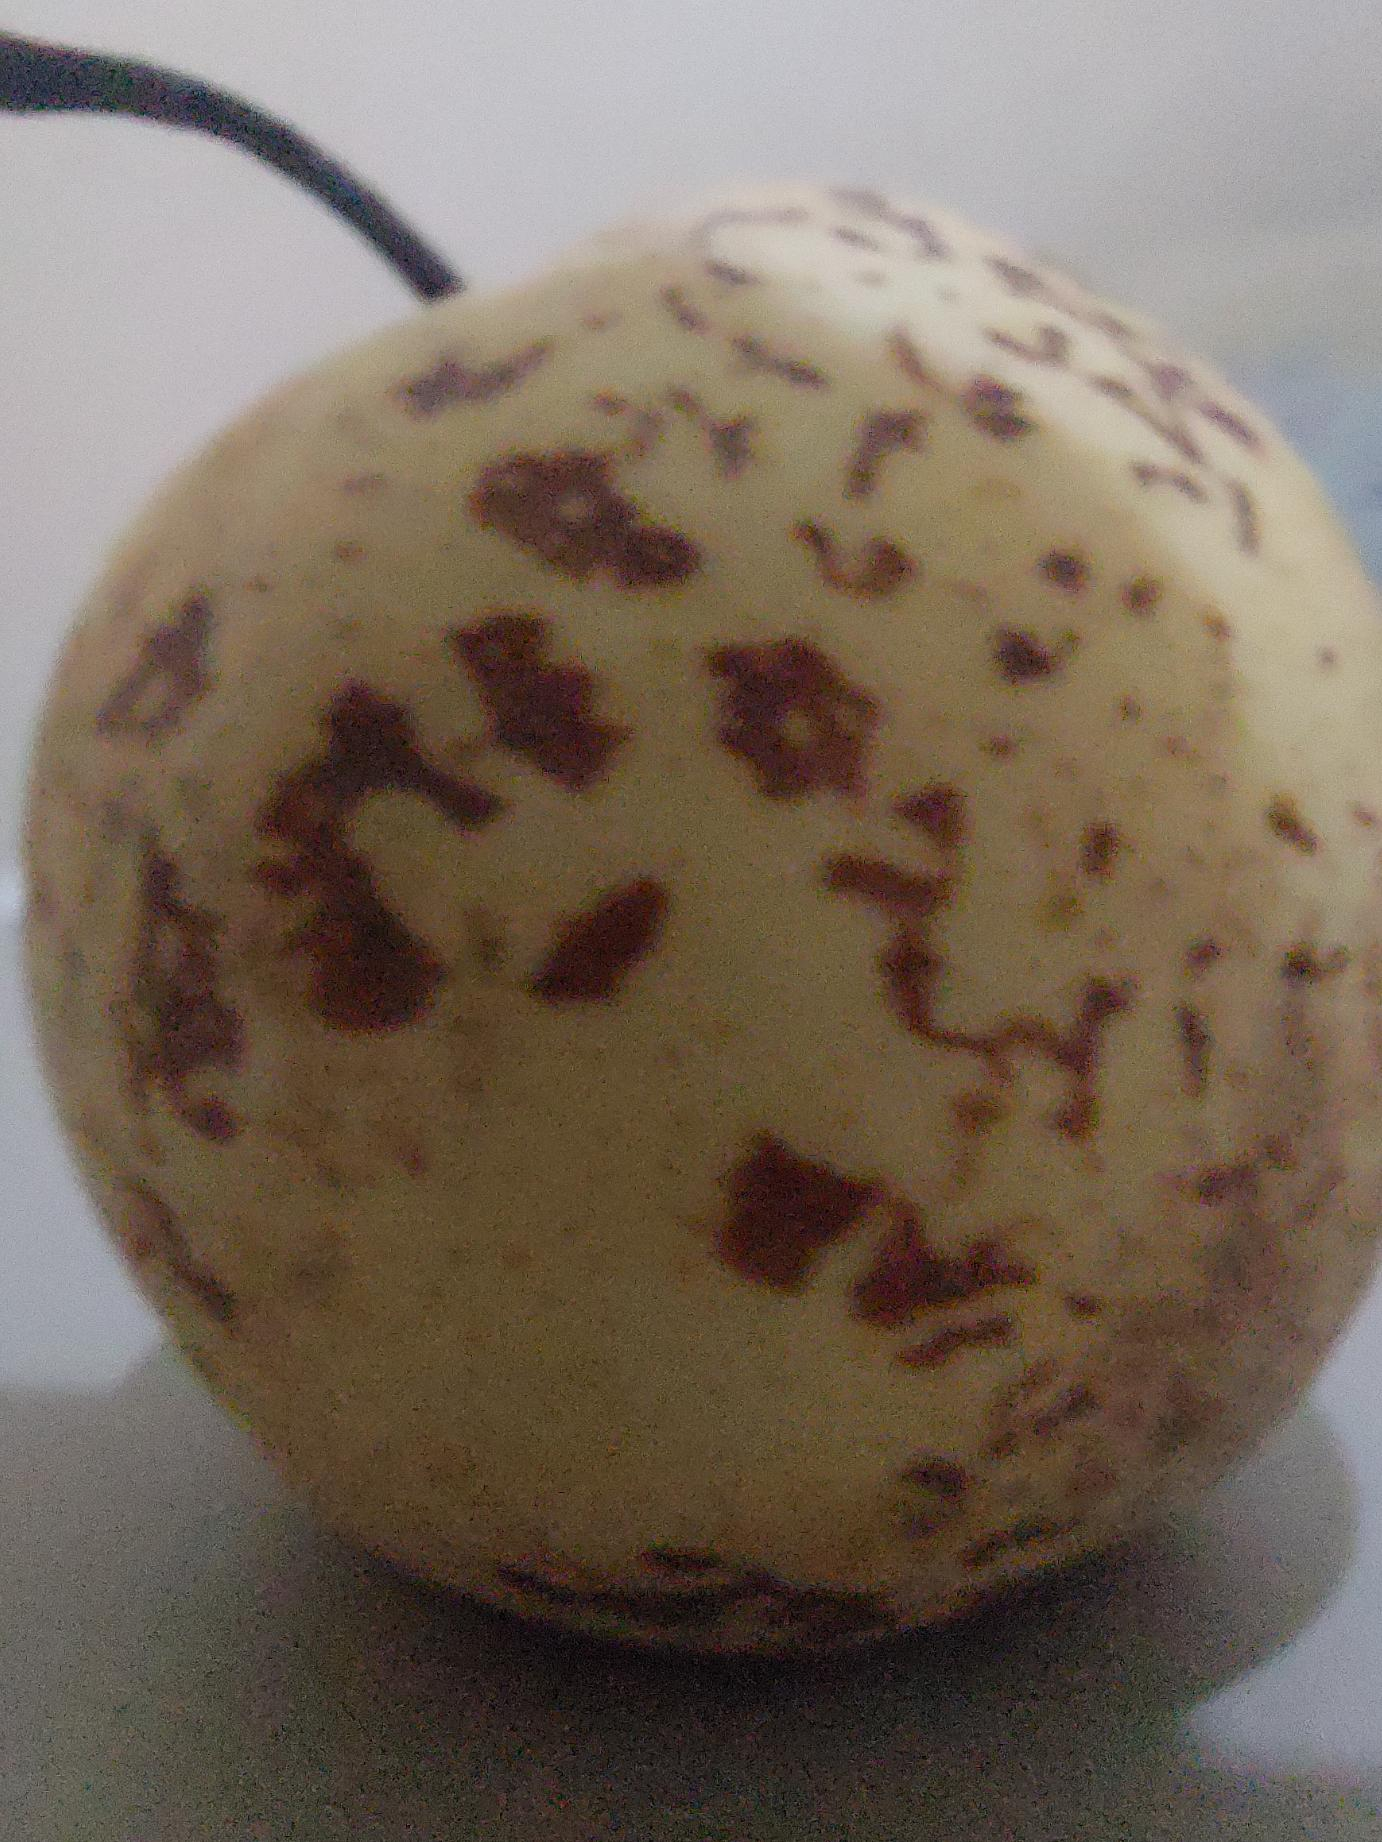Bad Pear: (0, 152, 1382, 1663)
